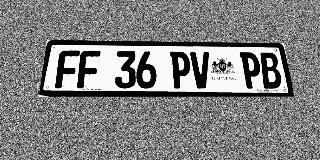3: (115, 51, 136, 88)
6: (136, 51, 156, 88)
B: (258, 52, 283, 88)
F: (55, 50, 80, 88), (77, 50, 100, 88)
P: (239, 52, 263, 88), (170, 51, 191, 88)
V: (190, 52, 212, 88)
